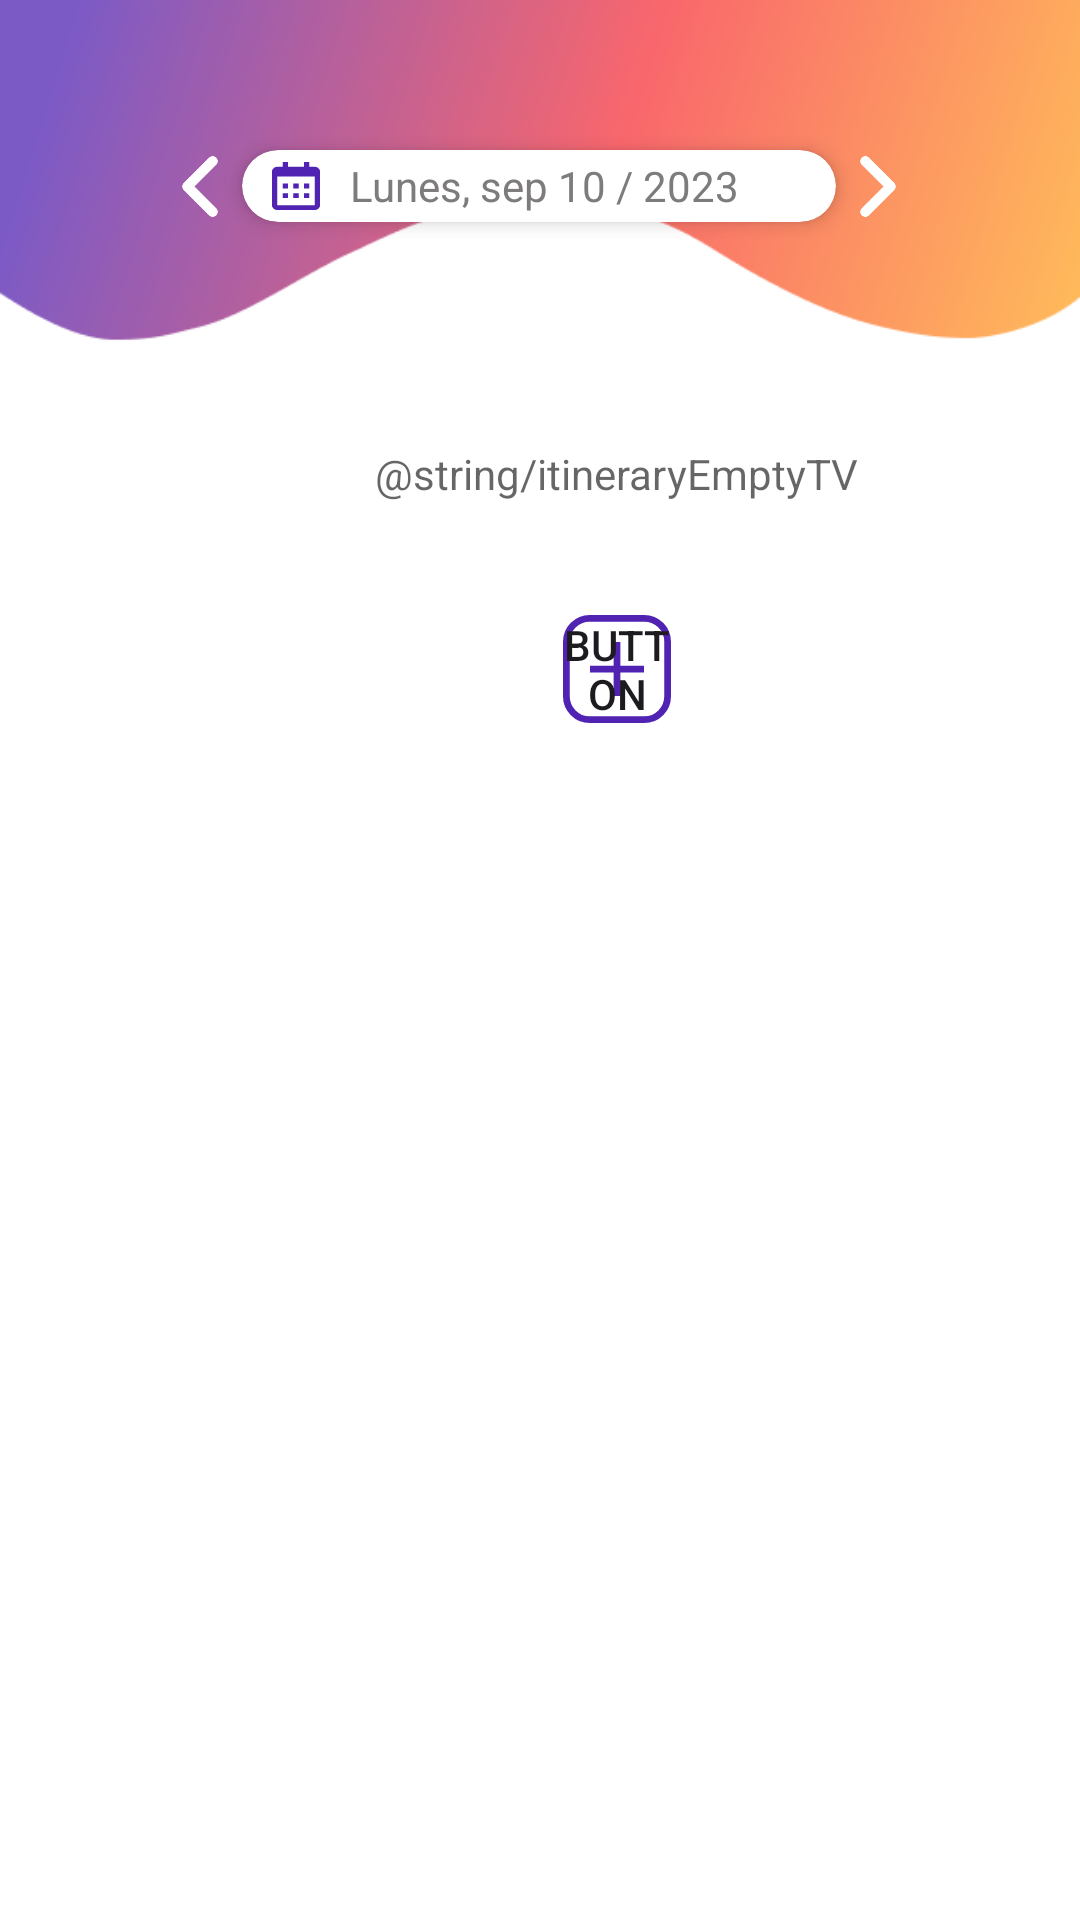

Where icons sit on this 1080px×1920px app screen, as (x1, y1, x2, y2):
calendar: (272, 162, 320, 210)
